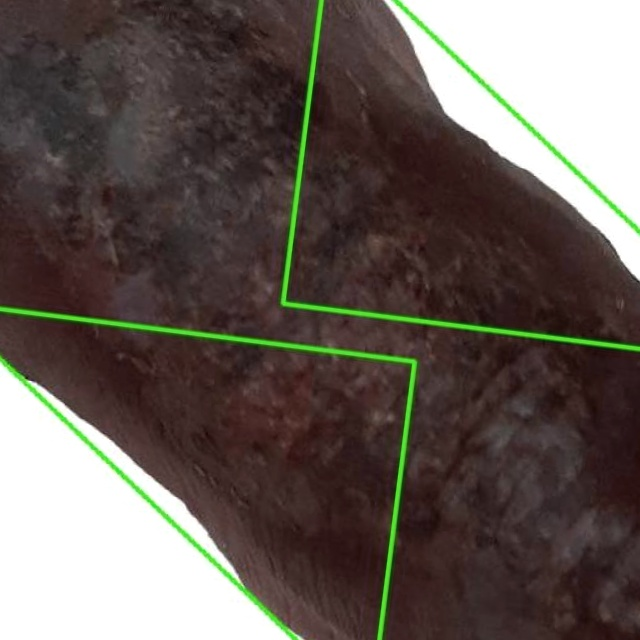Contact Dermatitis: (0, 0, 639, 639), (0, 310, 415, 639), (282, 0, 639, 350)
